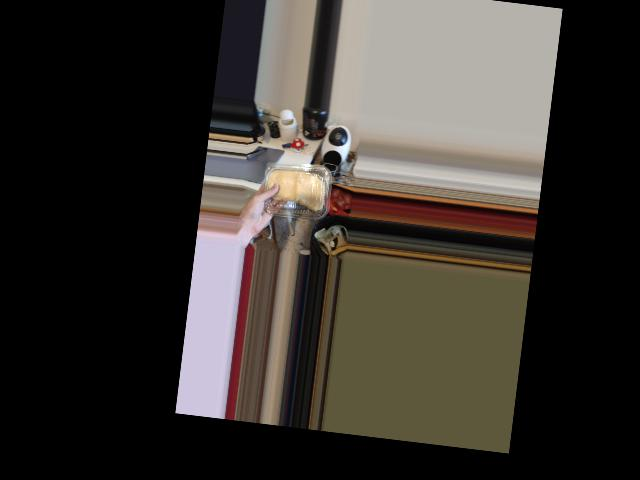cheese: (262, 153, 329, 224)
